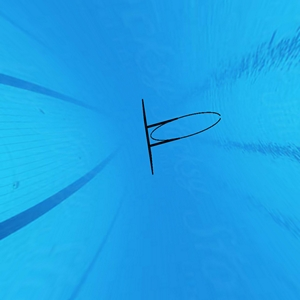circle: (140, 95, 223, 178)
